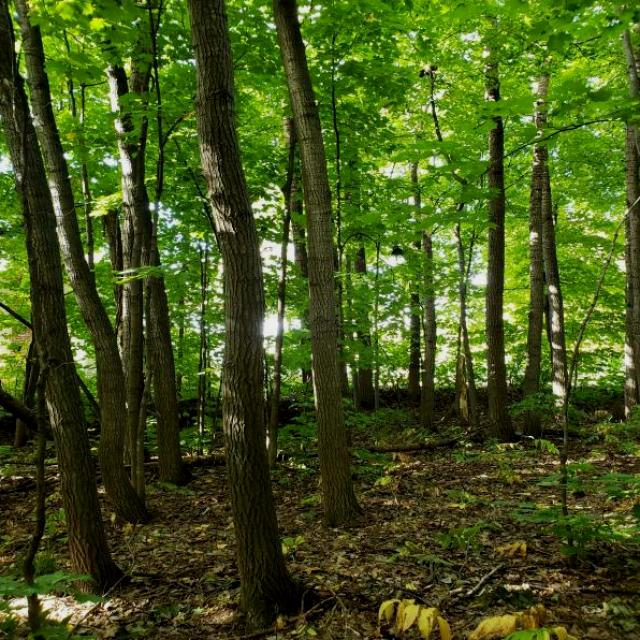fallen_object: (113, 408, 550, 494)
